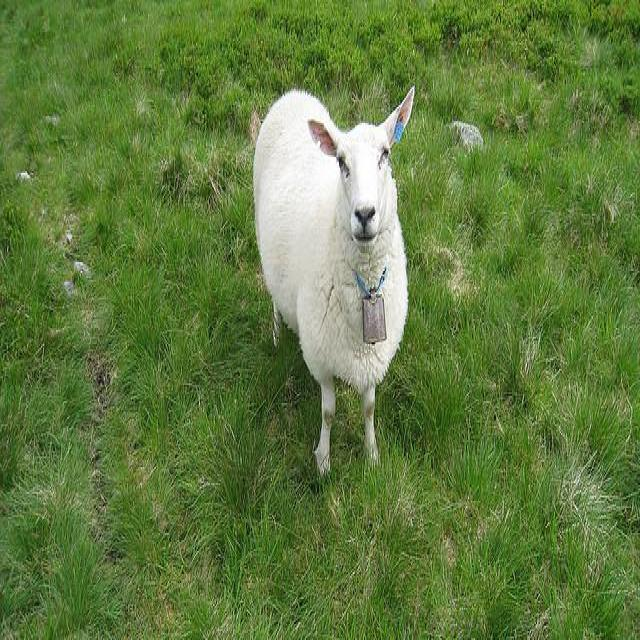Sheep: (249, 86, 415, 476)
